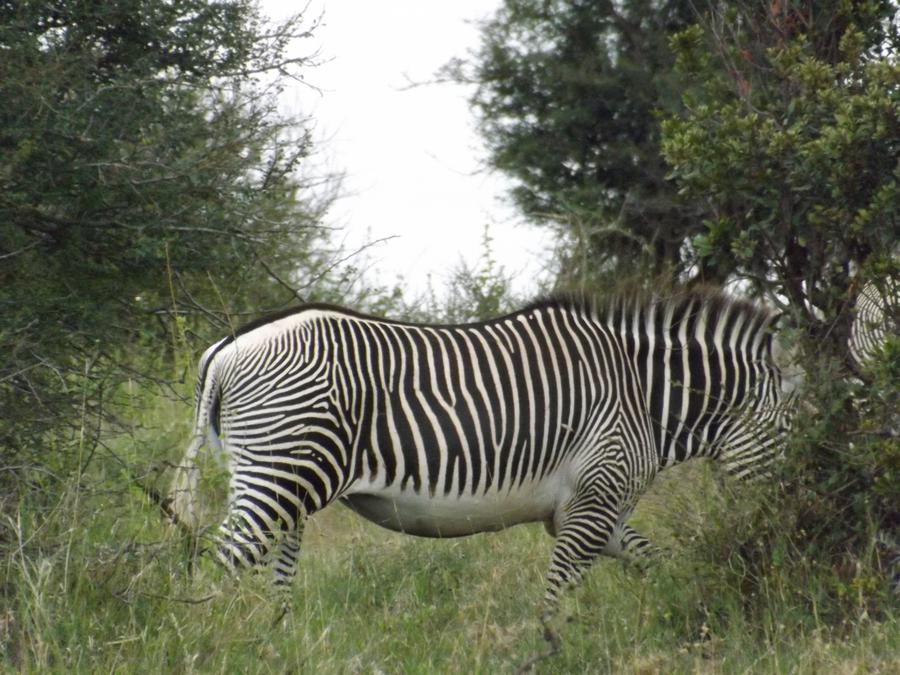zebra_grevys: (203, 315, 639, 517)
